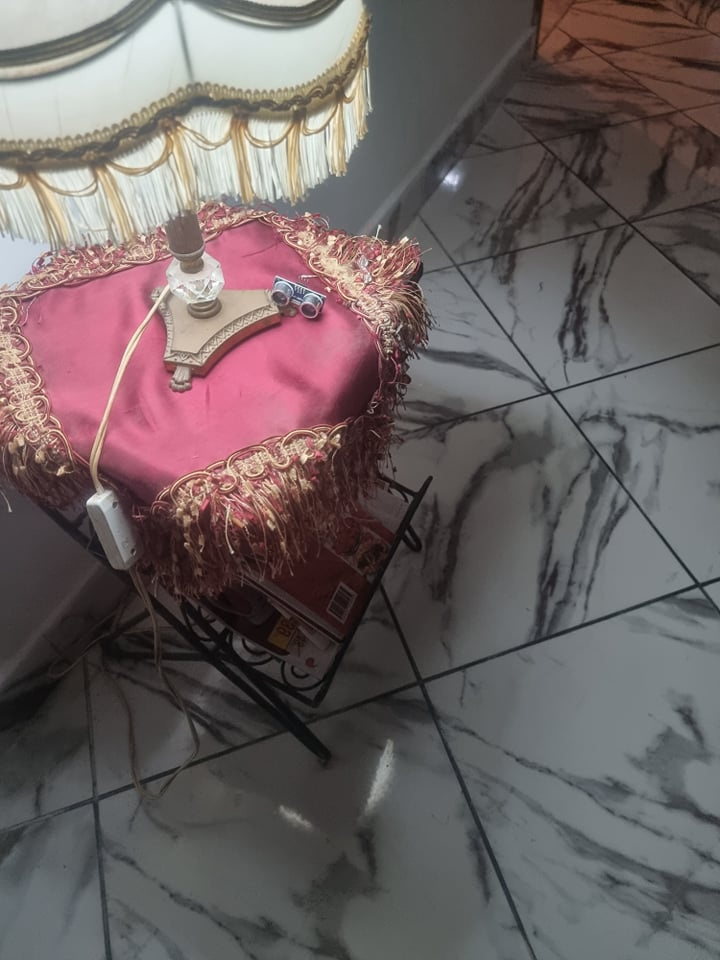SENSOR: (268, 277, 323, 318)
